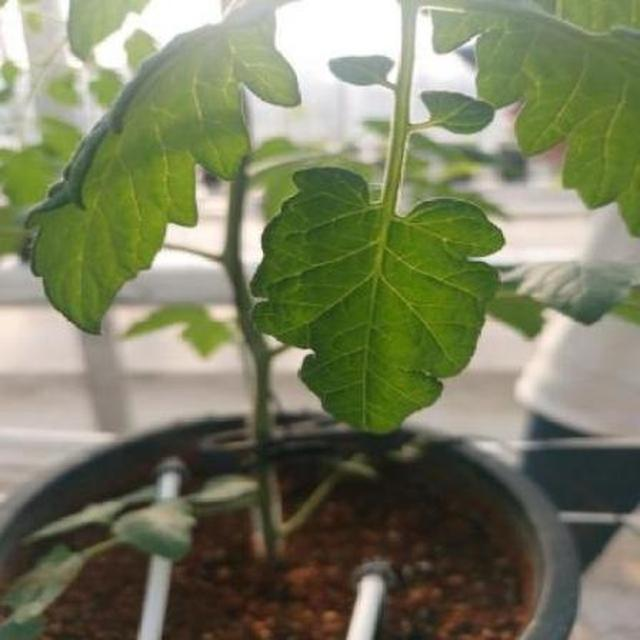Healthy Leaf: (233, 245, 541, 463)
